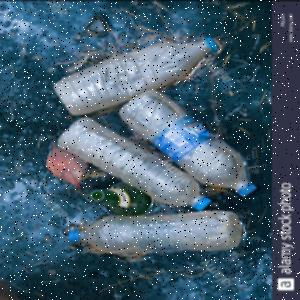Plastic-bottle: (119, 89, 259, 197), (58, 118, 214, 212), (54, 36, 221, 116), (68, 210, 244, 254)
